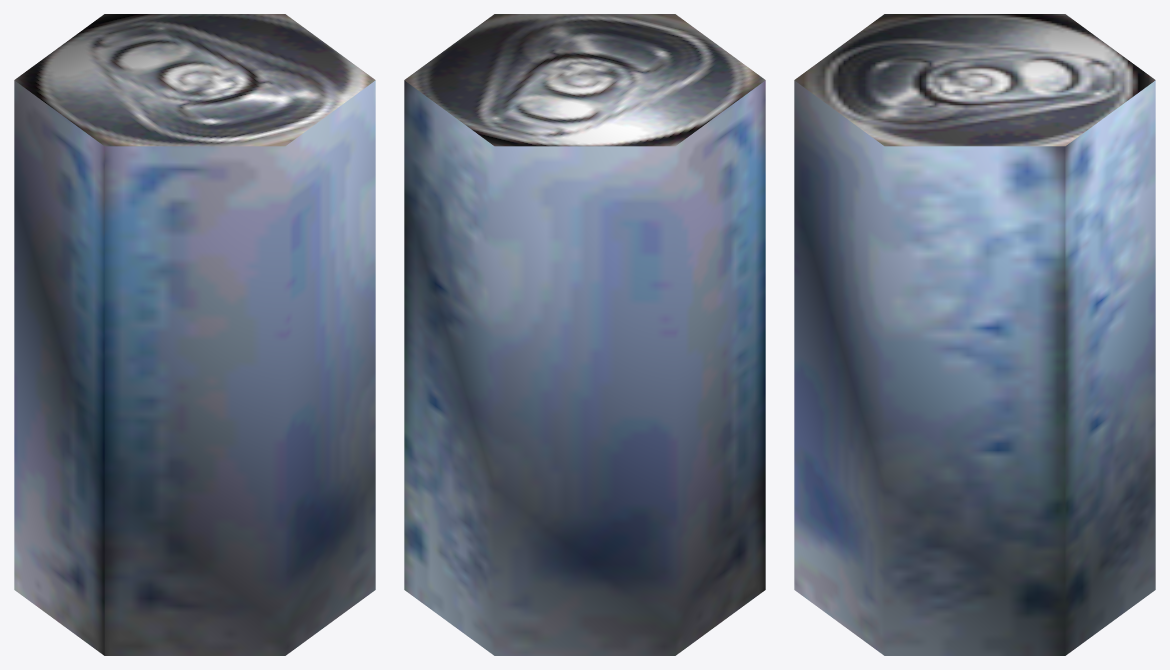
File: can_7.glb
The picture shows the model from 3 angles, left to right: view 1: azimuth 30°, elevation 25°; view 2: azimuth 150°, elevation 25°; view 3: azimuth 270°, elevation 25°; orthographic projection.
Parts seen in each view (by area): view 1: Can_7; view 2: Can_7; view 3: Can_7.
Part boxes in pixels (x1,y1,x2,y2): Can_7: [14, 14, 375, 655]; Can_7: [404, 14, 765, 655]; Can_7: [794, 14, 1155, 655].
Bounding box in the file's own units: 0.1956 × 0.3512 × 0.2259.
Materials: 1 (1 with a texture image).
